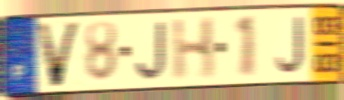1: (233, 13, 257, 81)
8: (83, 20, 120, 87)
H: (171, 15, 218, 84)
J: (133, 19, 168, 82), (274, 14, 306, 75)
V: (34, 20, 84, 90)
